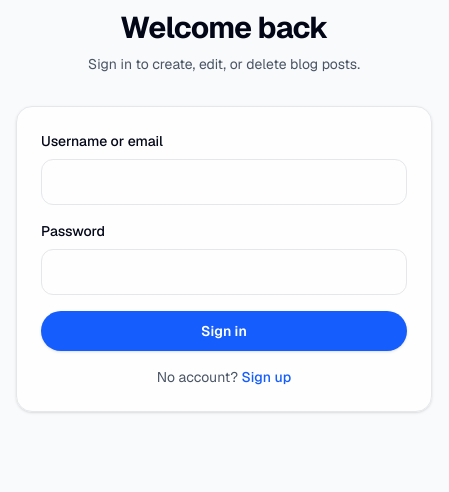
Test: LoginPage › shows an error if the login request fails
The width and height of the screenshot is (449, 492).
Type "mohit" into the field named "username or email". click: (224, 182)
box: [41,159,407,205]
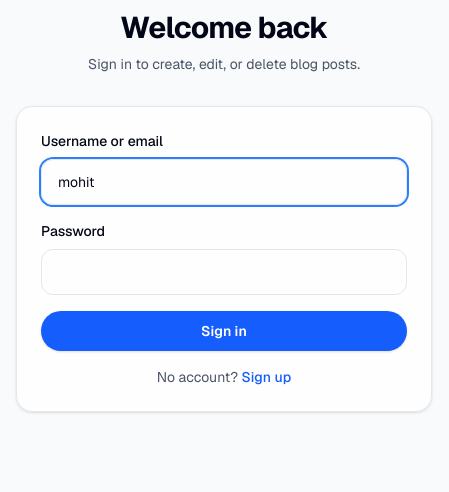
Type "badpassword" into the password field named "password". click: (224, 272)
box: [41,249,407,295]
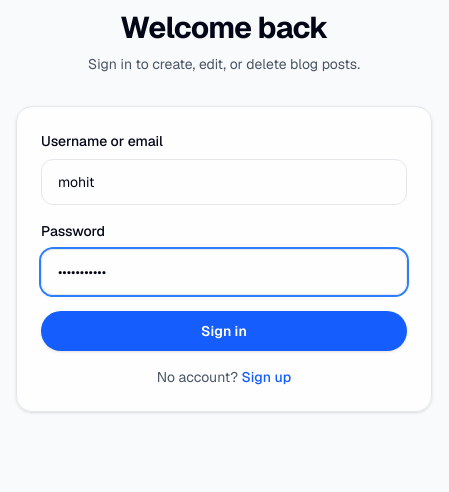
Click the button named "sign in". click: (224, 331)
box: [41,311,407,351]
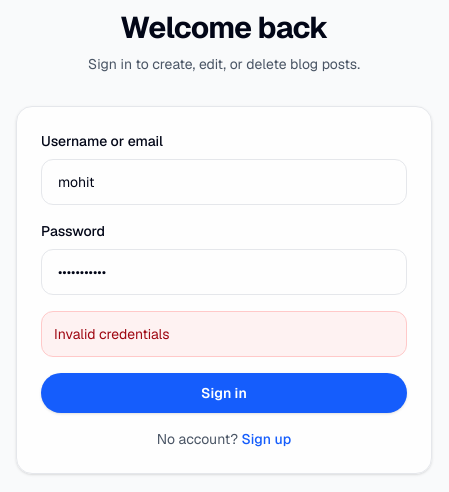
Result: the 4th text "Invalid credentials" is shown at [54,325,170,343]
